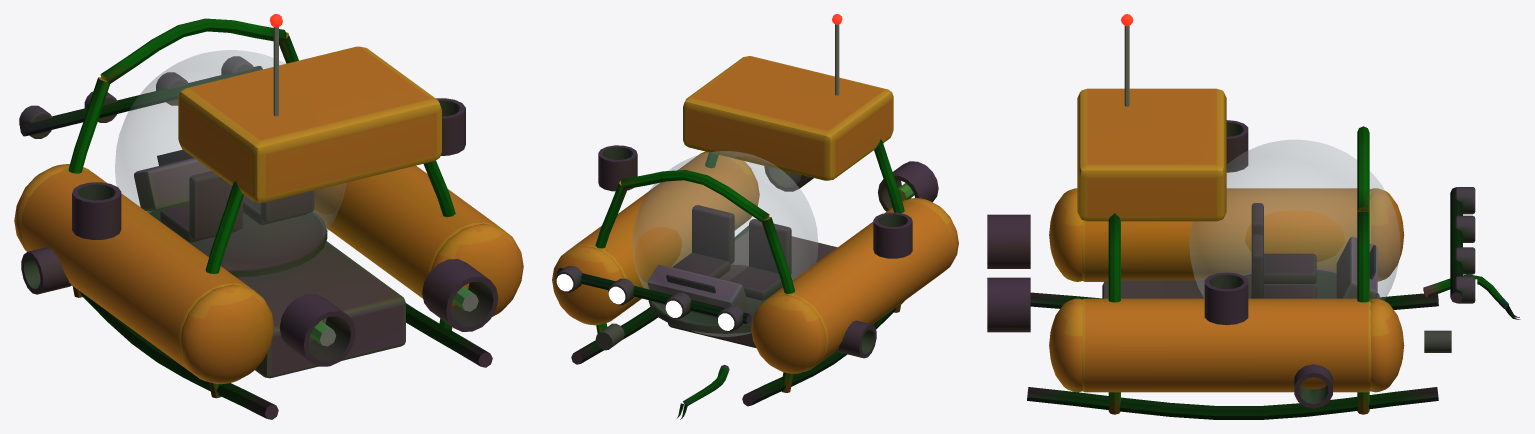
File: minisub.glb
3 views of the same model, side by side, from view 1: azimuth 30°, elevation 25°; view 2: azimuth 150°, elevation 25°; view 3: azimuth 270°, elevation 25° (orthographic). The views are drawn at different scales.
Visible parts, largest first — view 1: sub_frame, sub_sphere, sub_inside; view 2: sub_frame, sub_sphere, sub_inside; view 3: sub_frame, sub_sphere, sub_inside.
Boxes of the visible parts, x1,y1,x2,y2 form: sub_frame: (14, 14, 523, 419); sub_sphere: (115, 50, 345, 269); sub_inside: (134, 149, 327, 277); sub_frame: (552, 14, 958, 419); sub_sphere: (632, 151, 817, 336); sub_inside: (647, 205, 791, 333); sub_frame: (987, 14, 1520, 419); sub_sphere: (1189, 140, 1400, 300); sub_inside: (1242, 203, 1380, 299).
Bounding box in the file's own units: 3.26 × 2.97 × 4.29.
